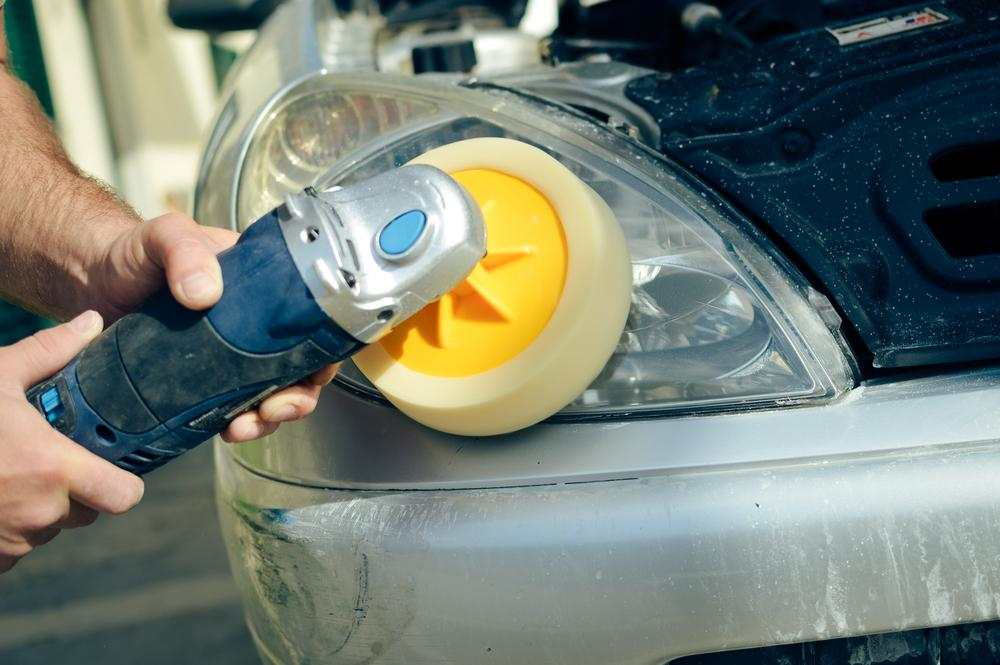scratch: (228, 488, 530, 665)
